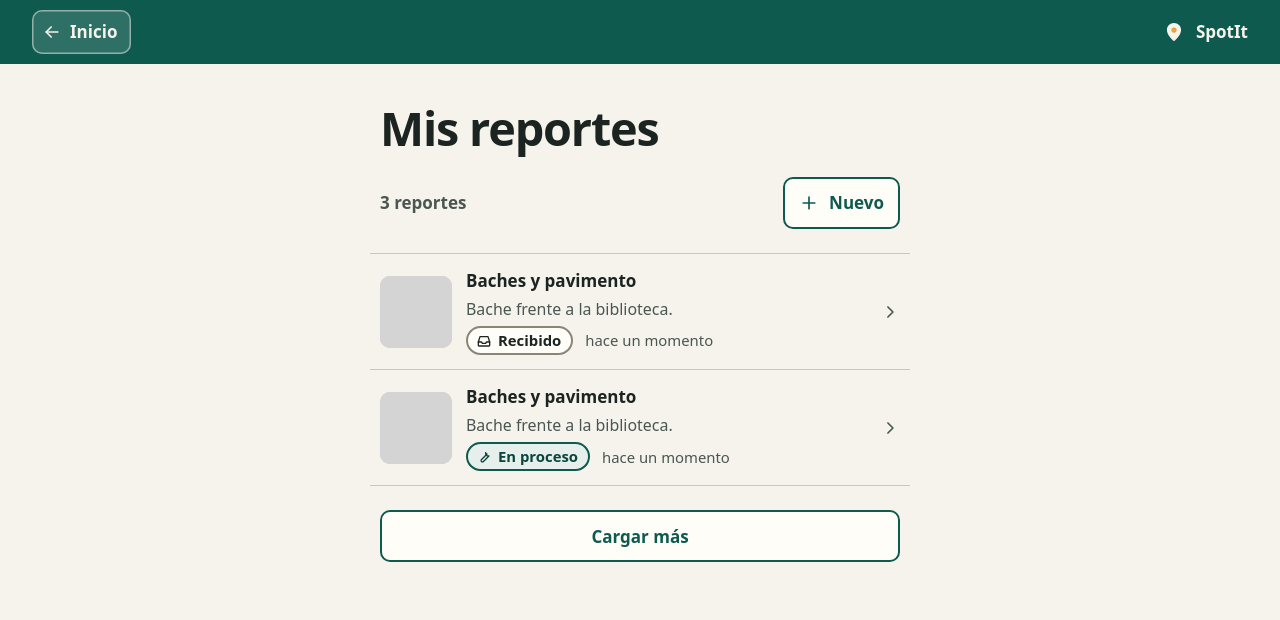
Scenario: Mis reportes › lista con estado en texto y paginación
Expected: the text "3 reportes" is shown, top-left (380, 190), bottom-right (466, 216)
Expected: the text "En proceso" is shown, top-left (498, 447), bottom-right (578, 466)
Click the button "Cargar más": (640, 536) top-left (380, 510), bottom-right (900, 562)
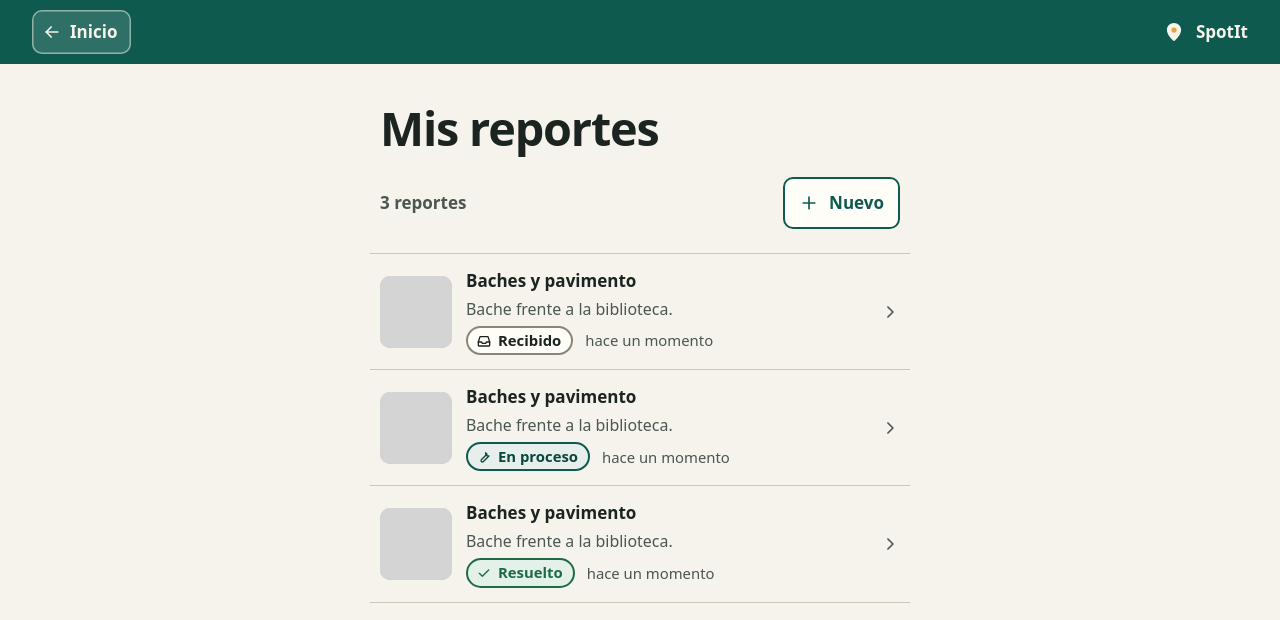
Expected: the text "Resuelto" is shown, top-left (498, 563), bottom-right (563, 582)
Expected: the button "Cargar más" is gone
